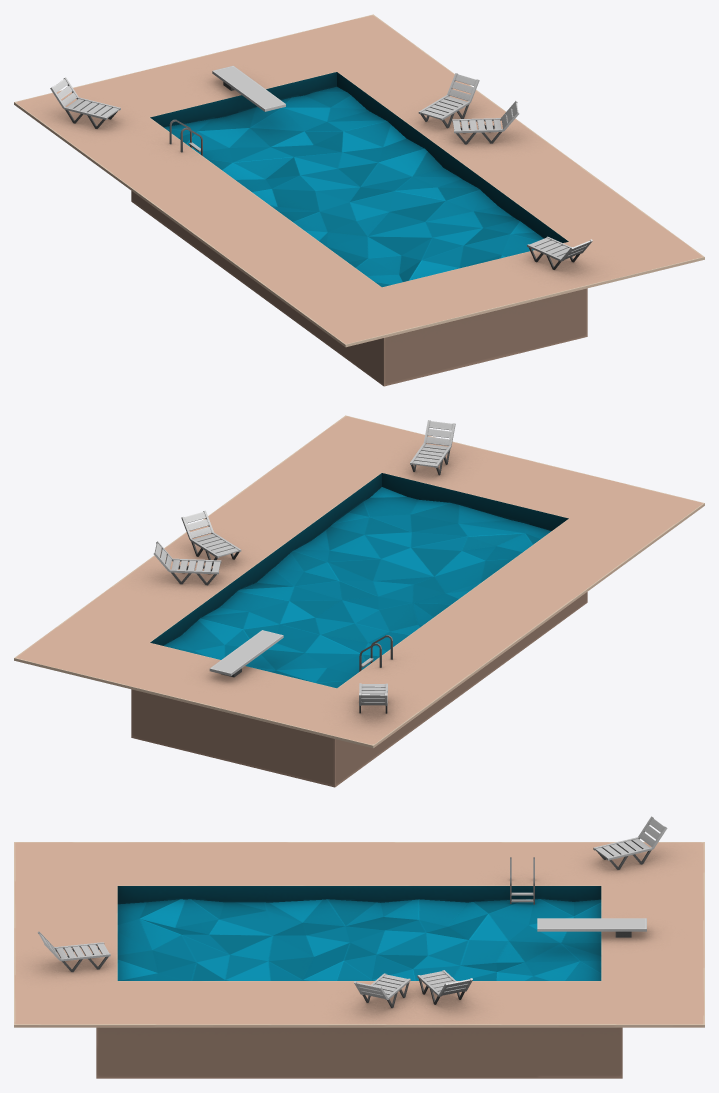
File: pool.glb
3 renders of one model, top to bottom at view 1: azimuth 30°, elevation 25°; view 2: azimuth 150°, elevation 25°; view 3: azimuth 270°, elevation 25°, orthographic. The views are drawn at different scales.
Parts seen in each view (by area): view 1: Node; view 2: Node; view 3: Node.
Boxes of the visible parts, x1,y1,x2,y2 form: Node: [14, 14, 704, 386]; Node: [14, 415, 704, 787]; Node: [14, 816, 704, 1078].
Size of the model in its own units: 26.8 by 8.56 by 42.82.
Materials: 1 (1 with a texture image).
